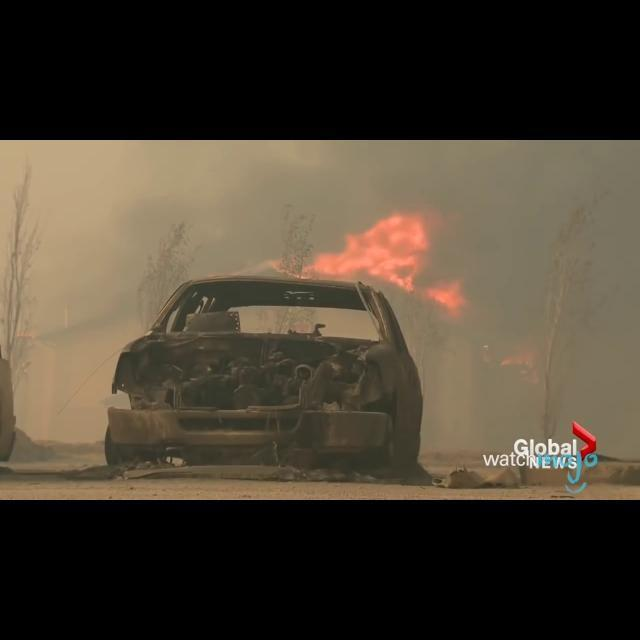Fire: (309, 208, 464, 308)
Smoke: (0, 140, 640, 210), (469, 210, 638, 461), (0, 214, 114, 471), (113, 212, 276, 326), (405, 307, 468, 471)
